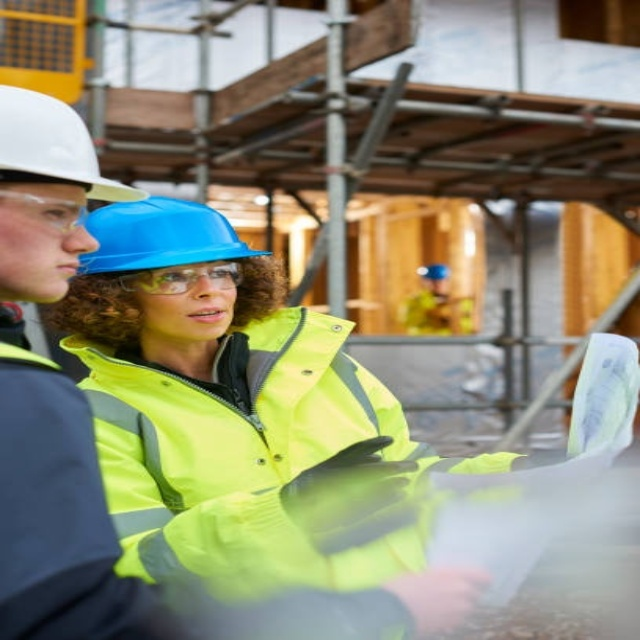Gafas: (111, 259, 248, 296), (2, 187, 86, 230)
Guantes: (281, 436, 424, 552)
Sin_mascara: (11, 251, 83, 298), (160, 302, 234, 338)
